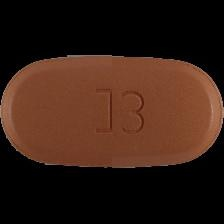65862-549: (0, 0, 224, 224)
